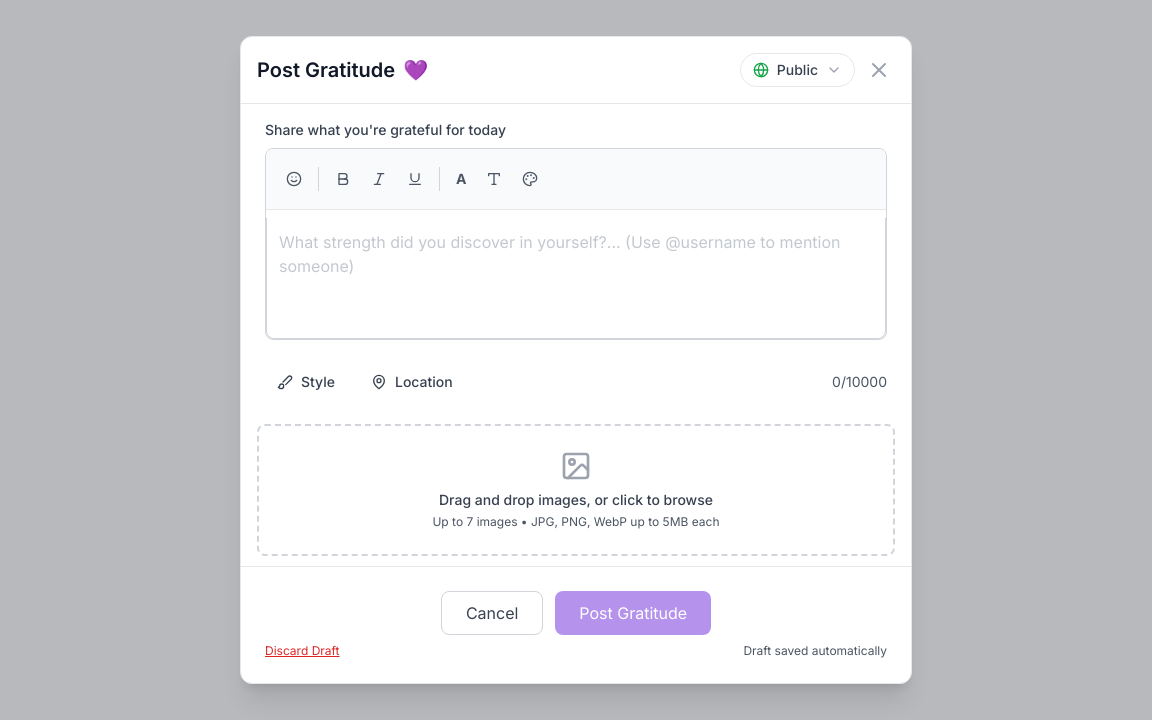
CreatePostModal Character Counter › should handle rich text formatting without affecting character count
The width and height of the screenshot is (1152, 720).
expect the button "Post Gratitude" is shown: met, box [555, 591, 711, 635]
// Type text and apply formatting (this might create HTML tags)
Clear the field at (576,278), box [267, 218, 885, 338]
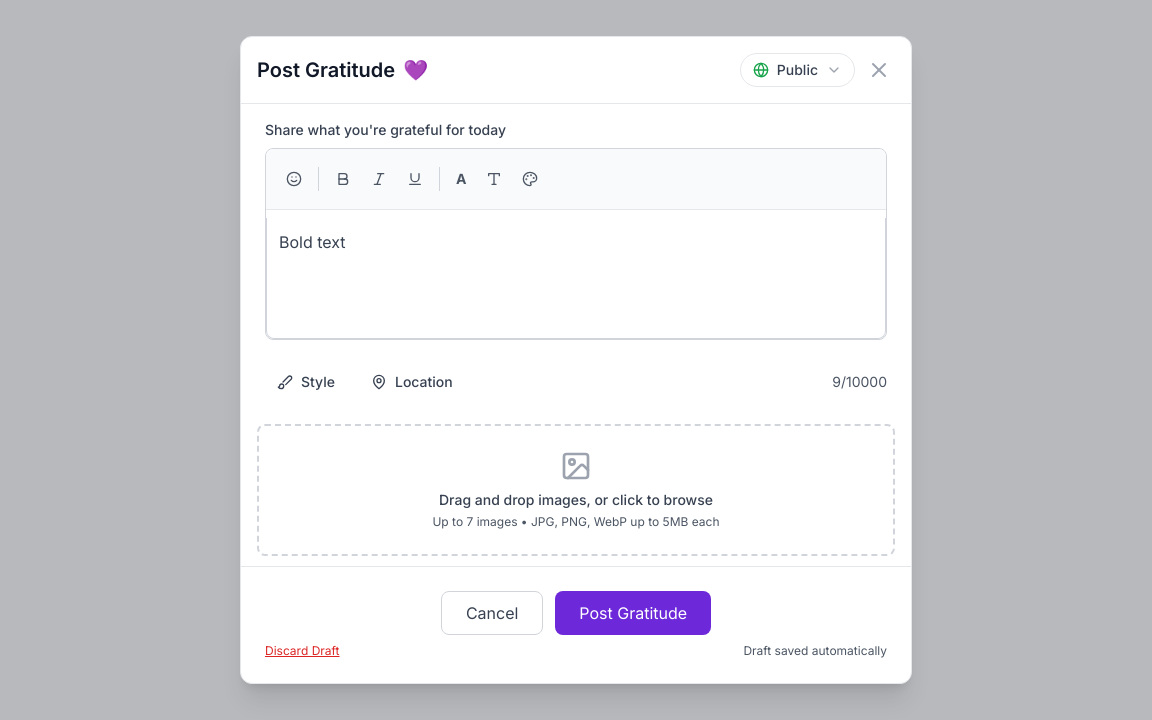
expect the text "9/10000" is shown: met, box [832, 372, 887, 392]
// Clear the formatted text
Clear the field at (312,242), box [279, 232, 346, 252]
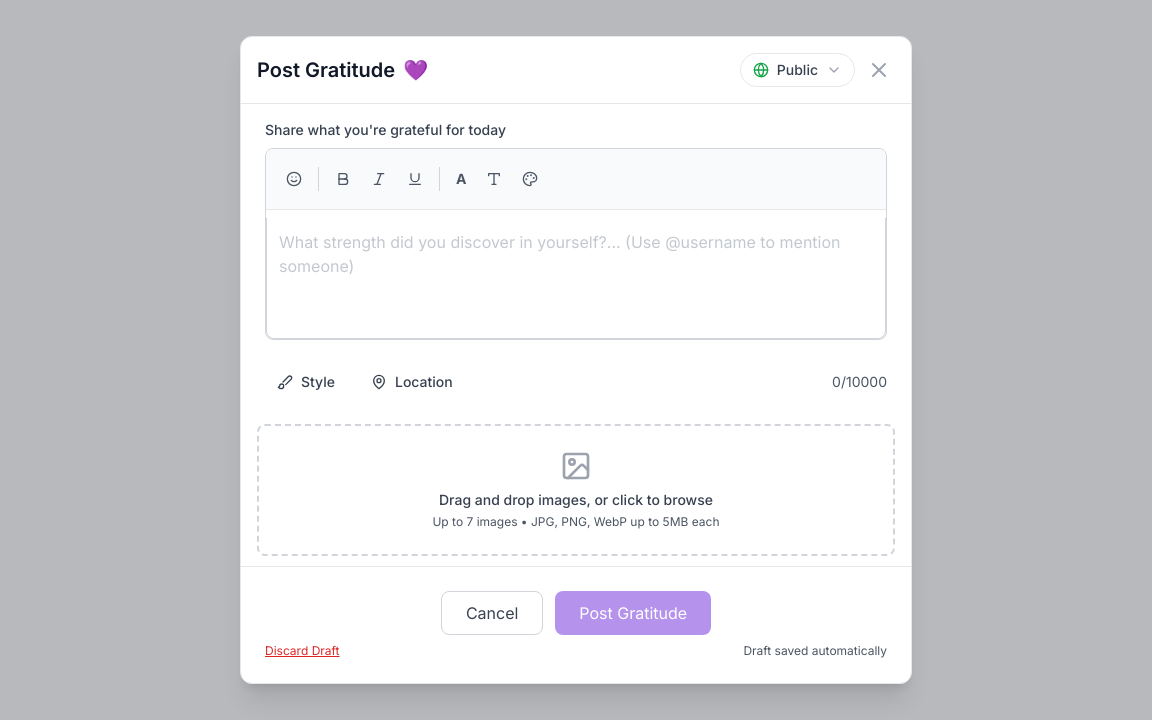
expect the text "0/10000" is shown: met, box [832, 372, 887, 392]
